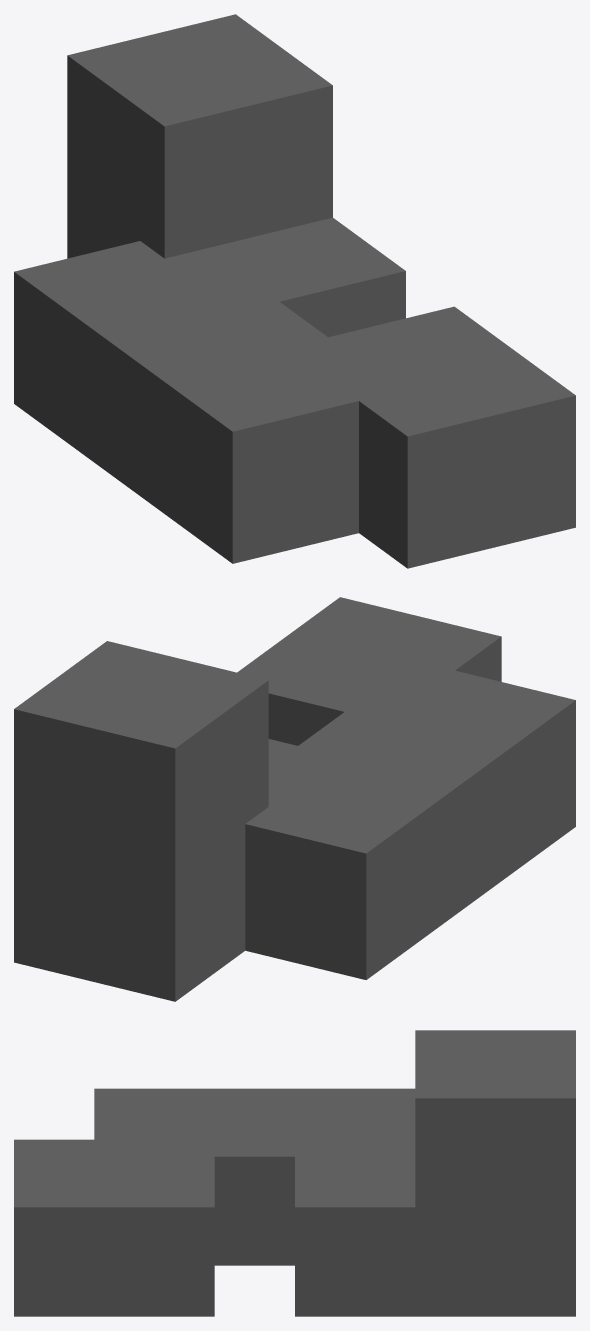
Rendered from MouseFull-2.obj.
3 renders of one model, top to bottom at view 1: azimuth 30°, elevation 25°; view 2: azimuth 150°, elevation 25°; view 3: azimuth 270°, elevation 25°, orthographic. The views are drawn at different scales.
Bounding box in the file's own units: 0.7 × 0.6 × 1.4.
1 material, 1 textured.
